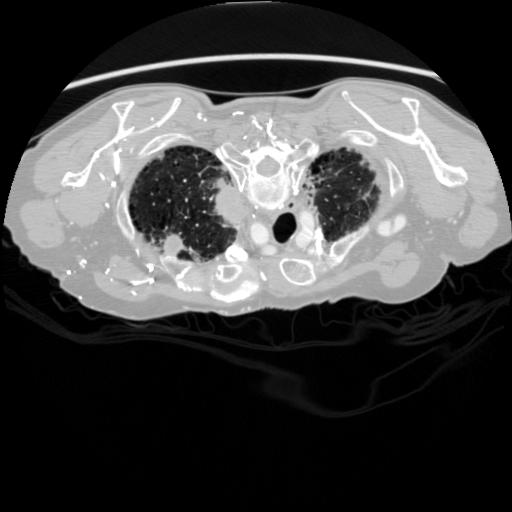nodule: (161, 233, 188, 260)
